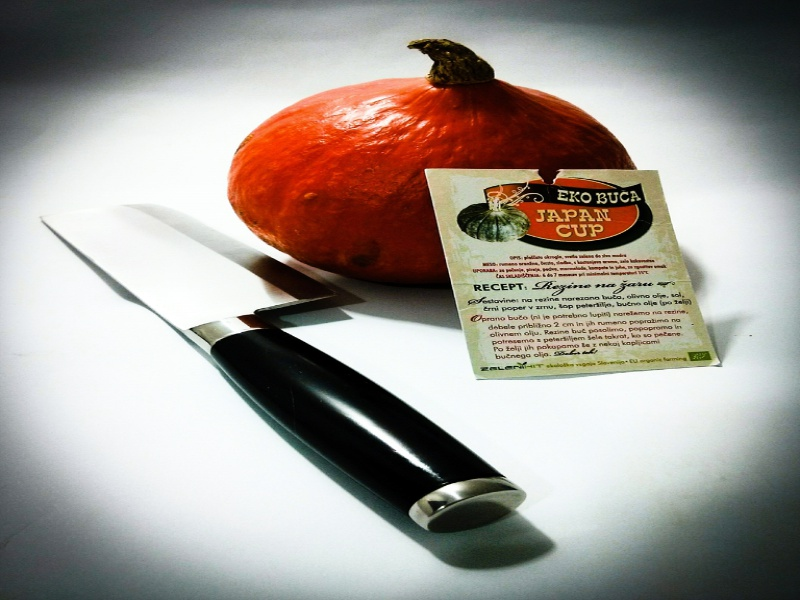knife: (35, 180, 532, 542)
